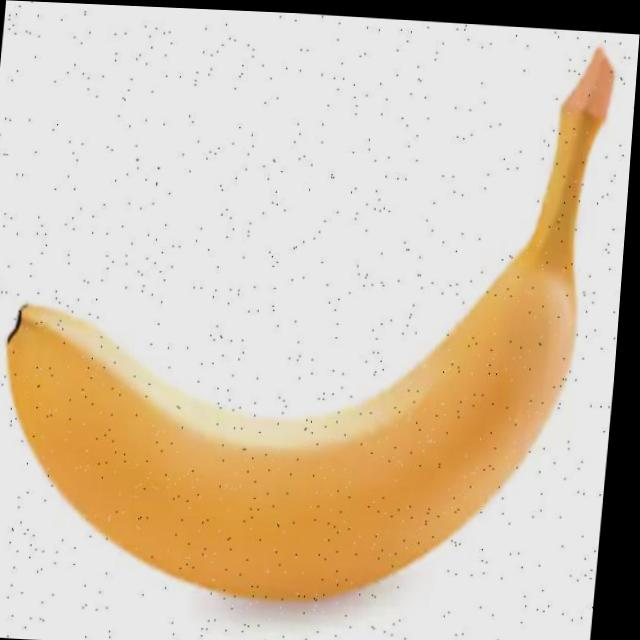Banana: (0, 10, 619, 614)
